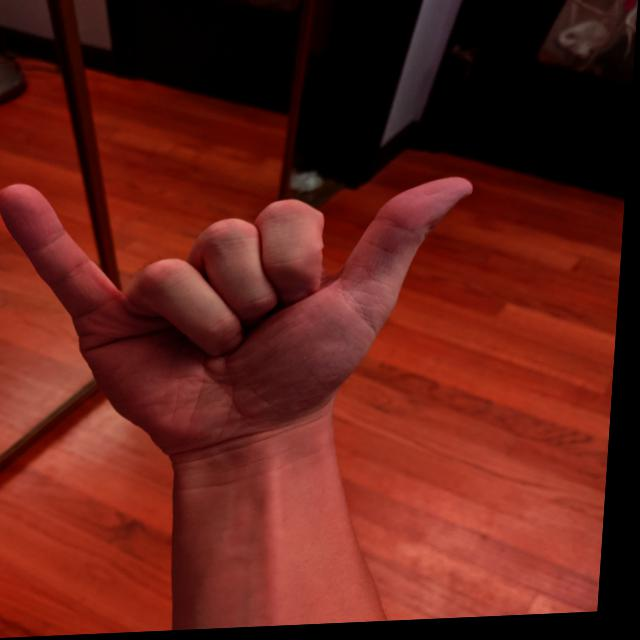Y: (0, 162, 485, 471)
